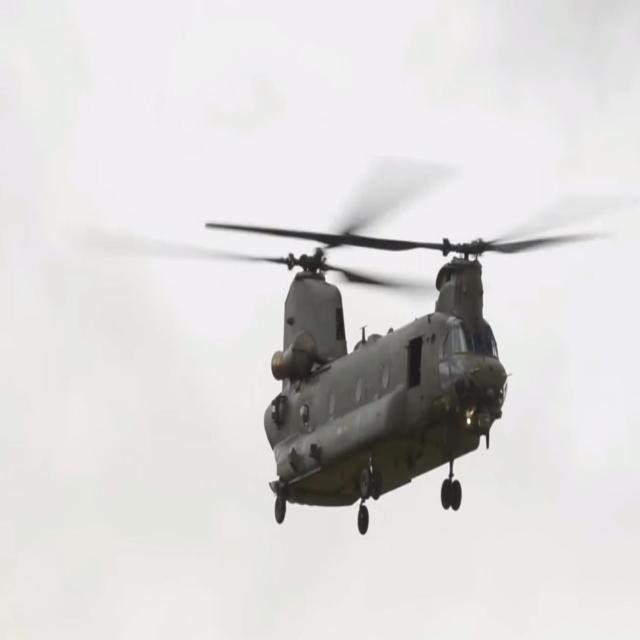Helicopter: (255, 221, 517, 547)
